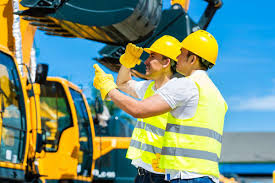helmet: (186, 32, 220, 62), (148, 34, 180, 57)
vest: (166, 84, 222, 174), (126, 89, 165, 163)
